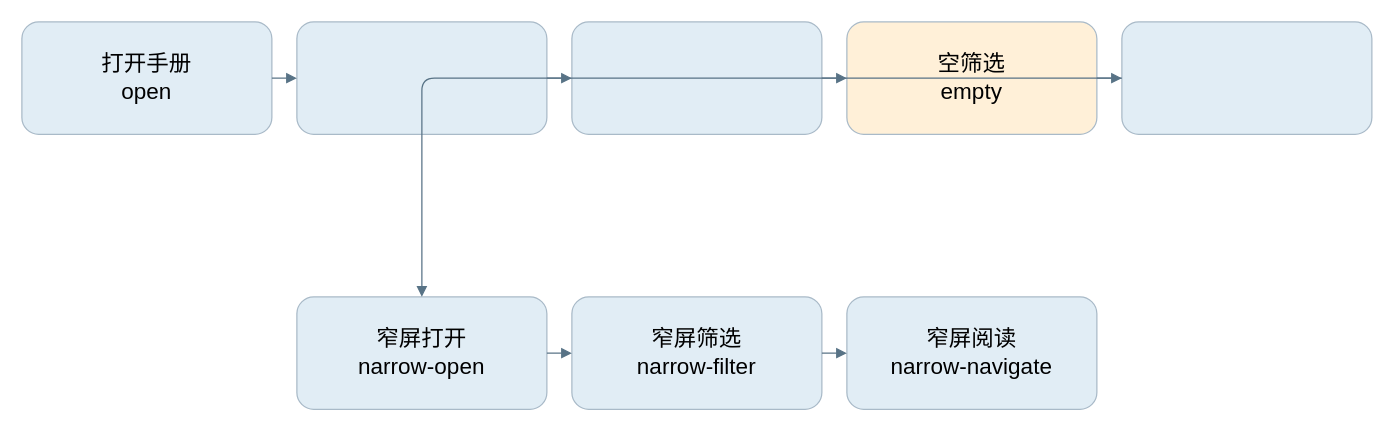
Some shapes in this 1394 by 431 pixel diagram are drawn without their labels. Each missing label, with the centre of its shape:
"恢复目录 restore" belongs at point 1246,77.
"筛选旅程 filter" belongs at point 421,77.
"阅读规则 navigate" belongs at point 696,77.
